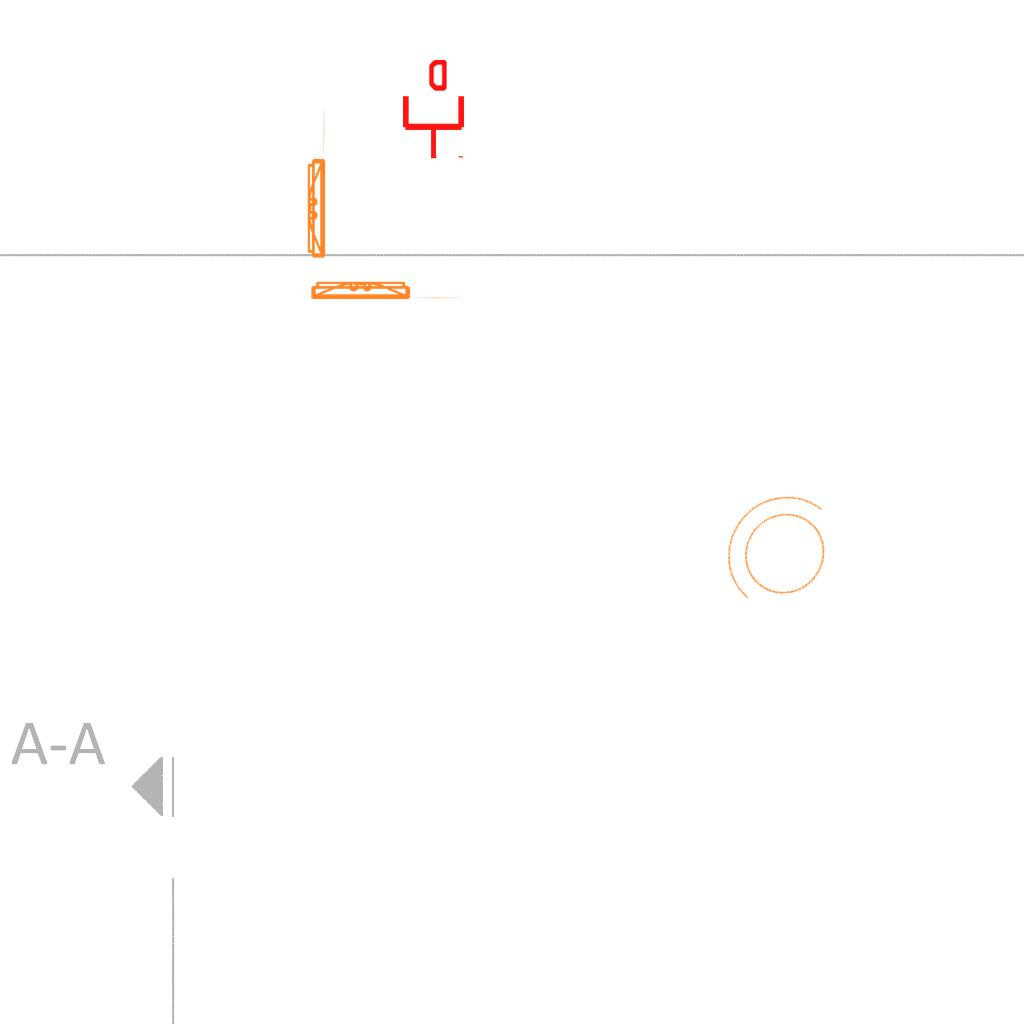Datenanschluss_einfach: (399, 60, 468, 160)
Scheinwerfer_fuer_Alarmbeleuchtung: (693, 466, 865, 640)
Sicherheitsleuchte_Wandeinbau: (306, 277, 465, 302), (303, 104, 328, 263)
